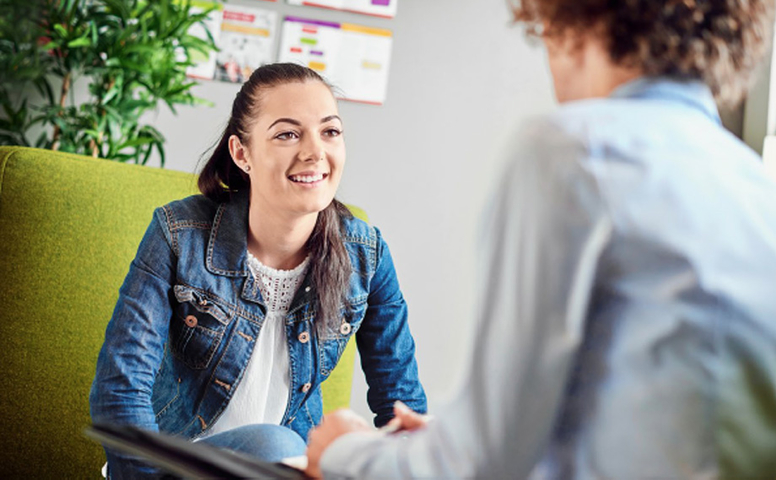without_mask: (255, 101, 340, 196)
